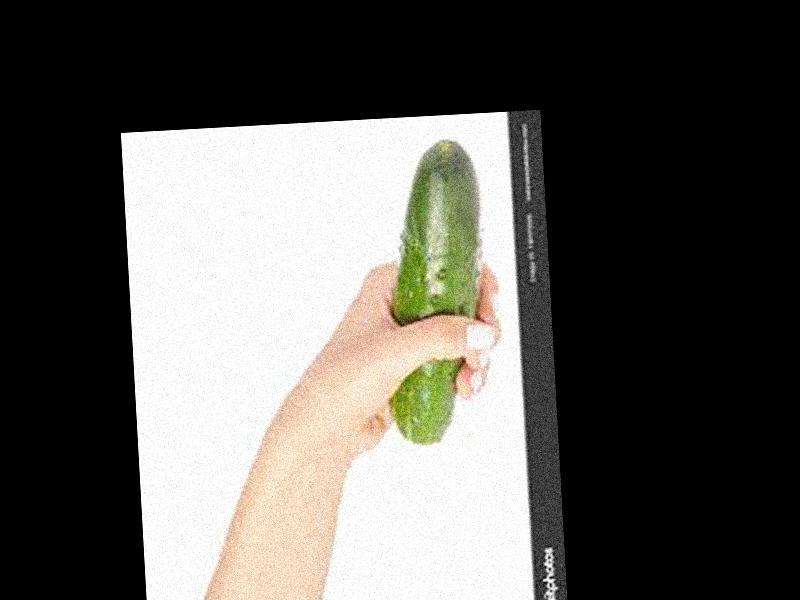Cucumber: (378, 135, 493, 444)
